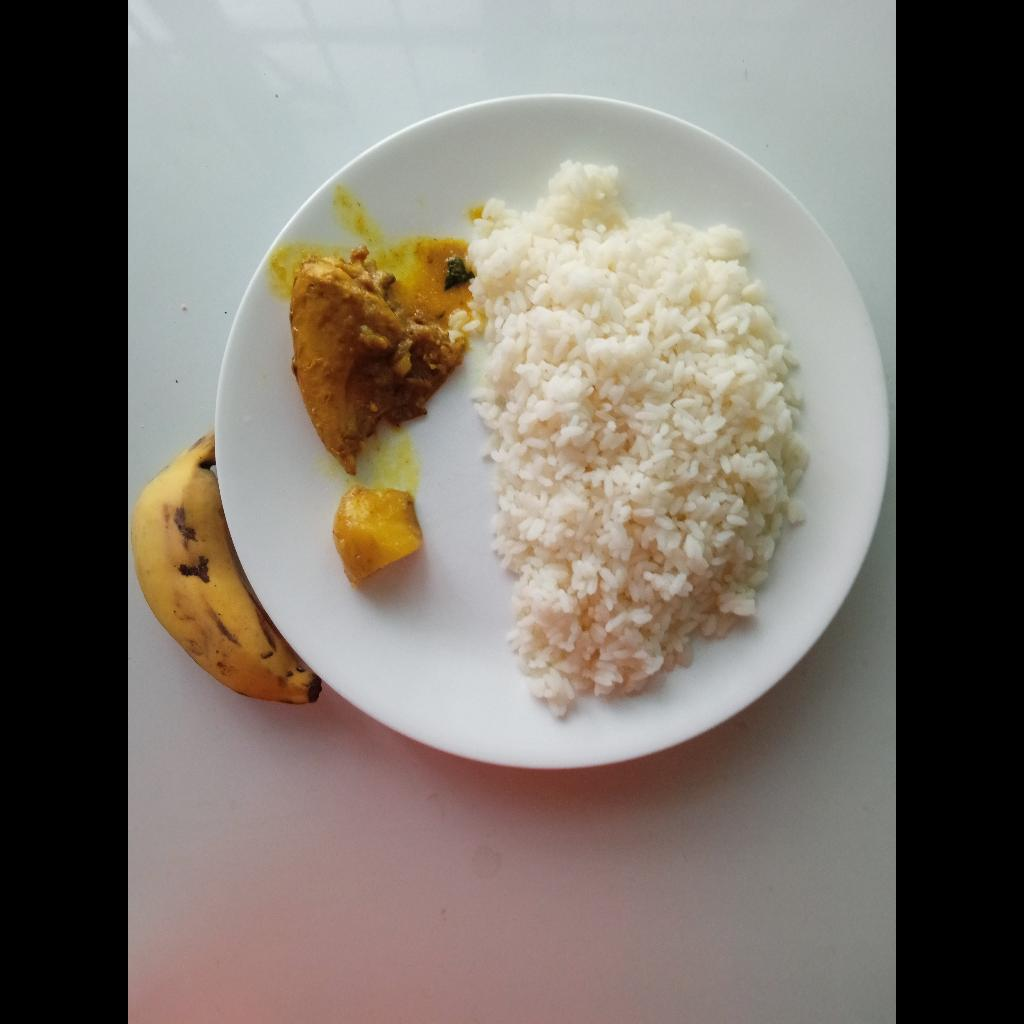banana: (134, 436, 319, 703)
chicken: (290, 257, 467, 476)
potato: (332, 486, 425, 586)
rice: (472, 155, 807, 724)
